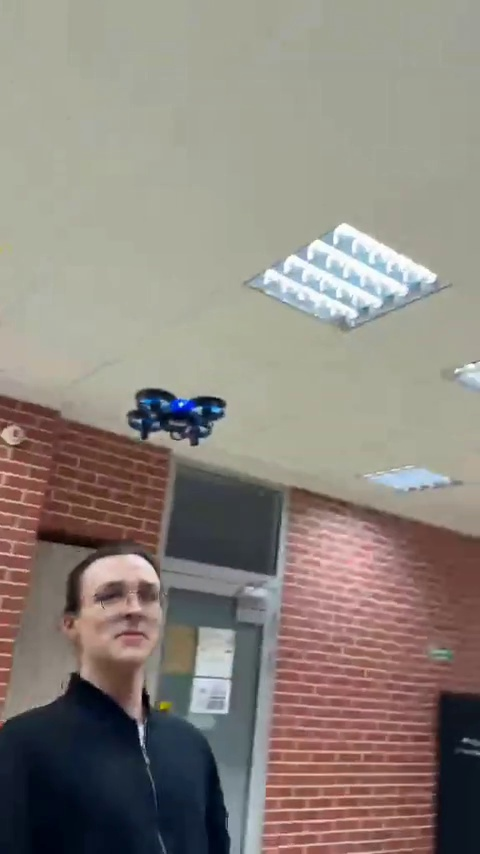drone: (131, 390, 224, 440)
no vest: (8, 545, 233, 851)
